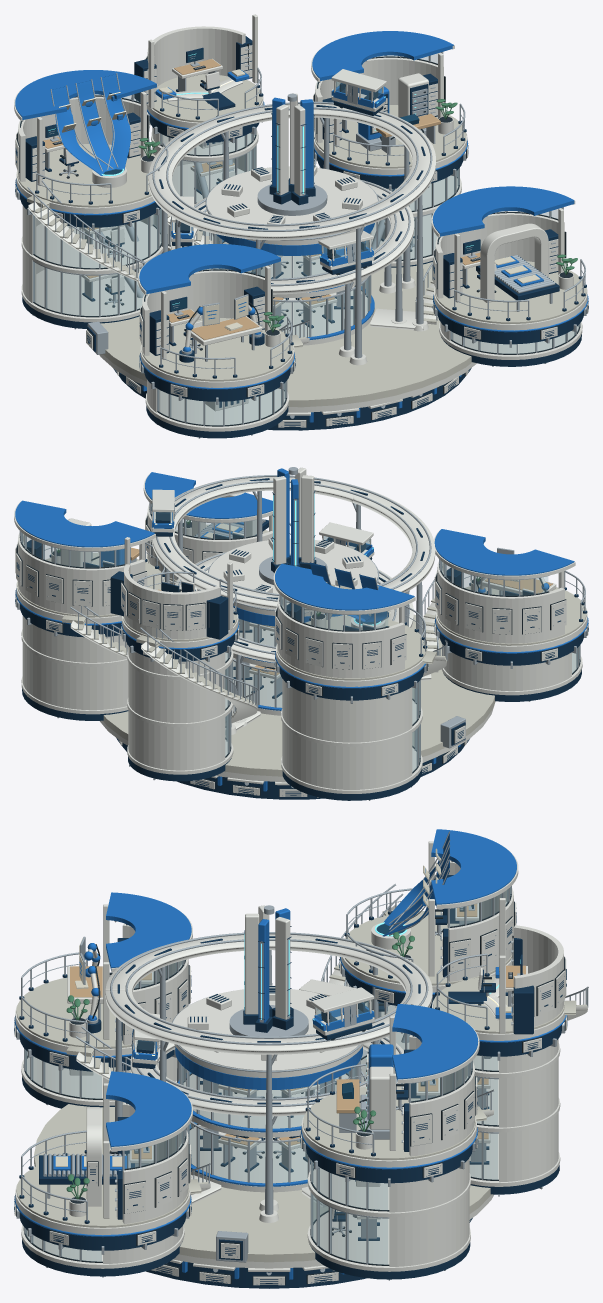
Rendered from bytedance-refined-v1.glb.
The picture shows the model from 3 angles, top to bottom: view 1: azimuth 30°, elevation 25°; view 2: azimuth 150°, elevation 25°; view 3: azimuth 270°, elevation 25°; orthographic projection. The views are drawn at different scales.
Visible parts, largest first — view 1: hub_porcelain (×4), hub_mineral_floor, hub_brushed_aluminum (×2), hub_blue_enamel (×2), hub_service_navy (×2), hub_glazing, hub_seals, hub_worktop, hub_content_card, hub_plant, hub_screen; view 2: hub_porcelain (×4), hub_blue_enamel (×2), hub_service_navy, hub_brushed_aluminum (×2), hub_mineral_floor, hub_glazing, hub_seals, hub_worktop; view 3: hub_porcelain (×3), hub_brushed_aluminum (×2), hub_blue_enamel (×2), hub_mineral_floor, hub_service_navy (×2), hub_glazing, hub_seals, hub_worktop, hub_plant, hub_content_card.
Part boxes in pixels (x1,y1,x2,y2): hub_porcelain (×4): (14,14,588,431); hub_mineral_floor: (17,74,586,407); hub_brushed_aluminum (×2): (15,48,588,438); hub_blue_enamel (×2): (15,31,588,422); hub_service_navy (×2): (15,36,588,438); hub_glazing: (20,53,579,425); hub_seals: (16,44,587,427); hub_worktop: (43,59,480,340); hub_content_card: (58,69,540,330); hub_plant: (138,99,577,332); hub_screen: (47,49,480,311); hub_porcelain (×4): (14,467,588,796); hub_blue_enamel (×2): (15,468,588,791); hub_service_navy: (15,478,588,800); hub_brushed_aluminum (×2): (15,467,586,800); hub_mineral_floor: (17,524,586,776); hub_glazing: (21,504,579,771); hub_seals: (16,507,587,796); hub_worktop: (98,547,552,675); hub_porcelain (×3): (14,841,587,1285); hub_brushed_aluminum (×2): (14,831,588,1284); hub_blue_enamel (×2): (14,829,566,1279); hub_mineral_floor: (16,910,587,1262); hub_service_navy (×2): (14,875,567,1288); hub_glazing: (25,887,510,1264); hub_seals: (16,894,565,1285); hub_worktop: (70,903,525,1159); hub_plant: (66,932,414,1199); hub_content_card: (55,848,511,1166).
Bounding box in the file's own units: 16.18 × 9.69 × 16.26.
